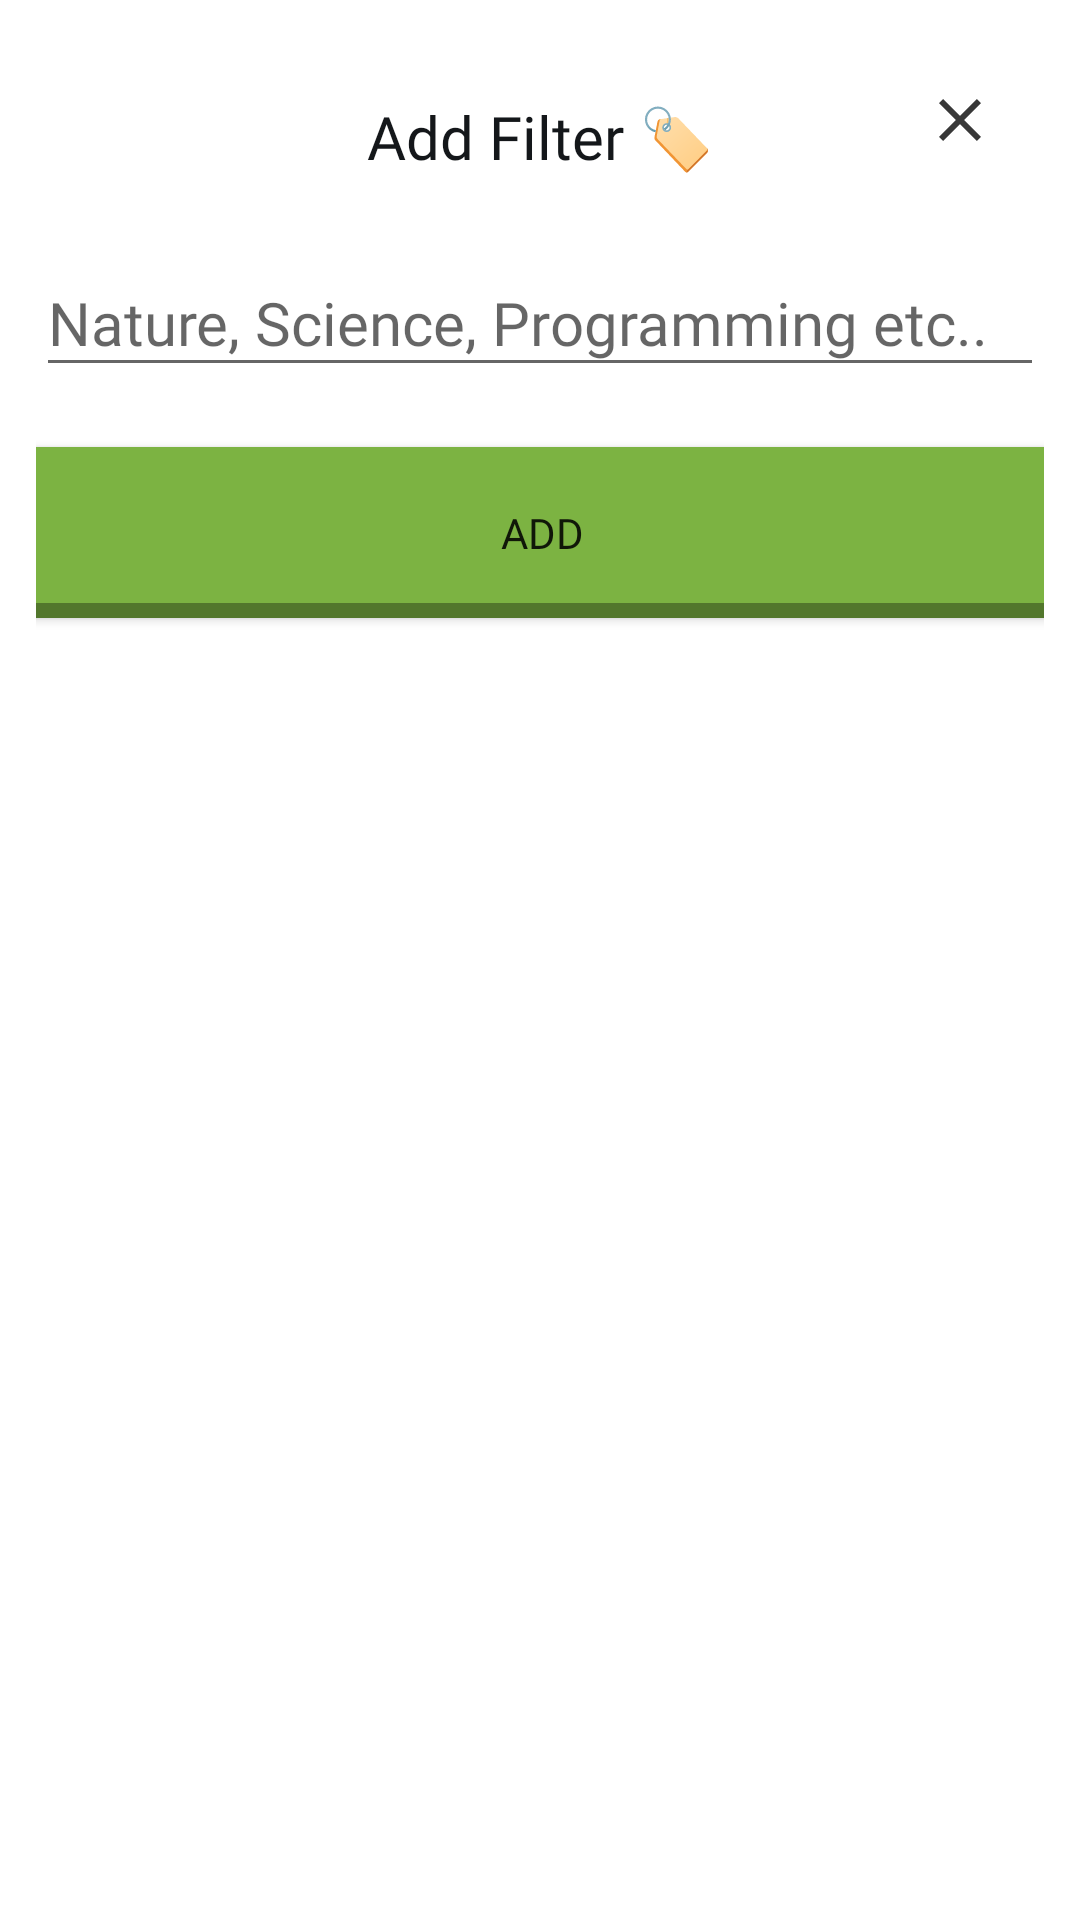

Point at icon controls on the screen. Image size 1080w x 1920h, points as [x,y].
close: [960,120]
